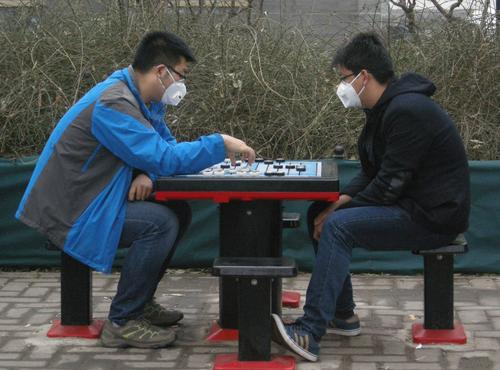yes_mask: (131, 28, 198, 110), (329, 34, 391, 115)
